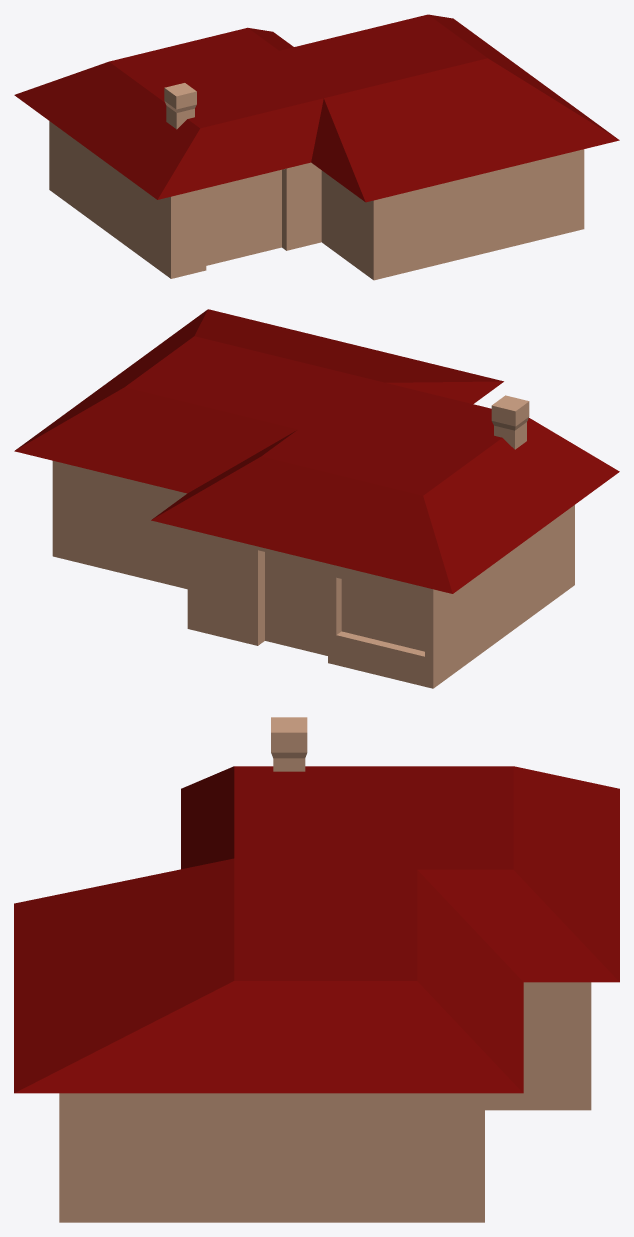
The model's file is YourHouse.fbx.
The picture shows the model from 3 angles, top to bottom: view 1: azimuth 30°, elevation 25°; view 2: azimuth 150°, elevation 25°; view 3: azimuth 270°, elevation 25°; orthographic projection. The views are drawn at different scales.
Parts seen in each view (by area): view 1: YourHouseRoof, YourHouse; view 2: YourHouseRoof, YourHouse; view 3: YourHouseRoof, YourHouse.
Part boxes in pixels (x1,y1,x2,y2): YourHouseRoof: [14, 14, 619, 202]; YourHouse: [49, 83, 584, 280]; YourHouseRoof: [14, 309, 619, 593]; YourHouse: [52, 395, 574, 688]; YourHouseRoof: [14, 766, 619, 1093]; YourHouse: [59, 717, 591, 1222].
Size of the model in its own units: 13.55 by 5.23 by 11.39.
